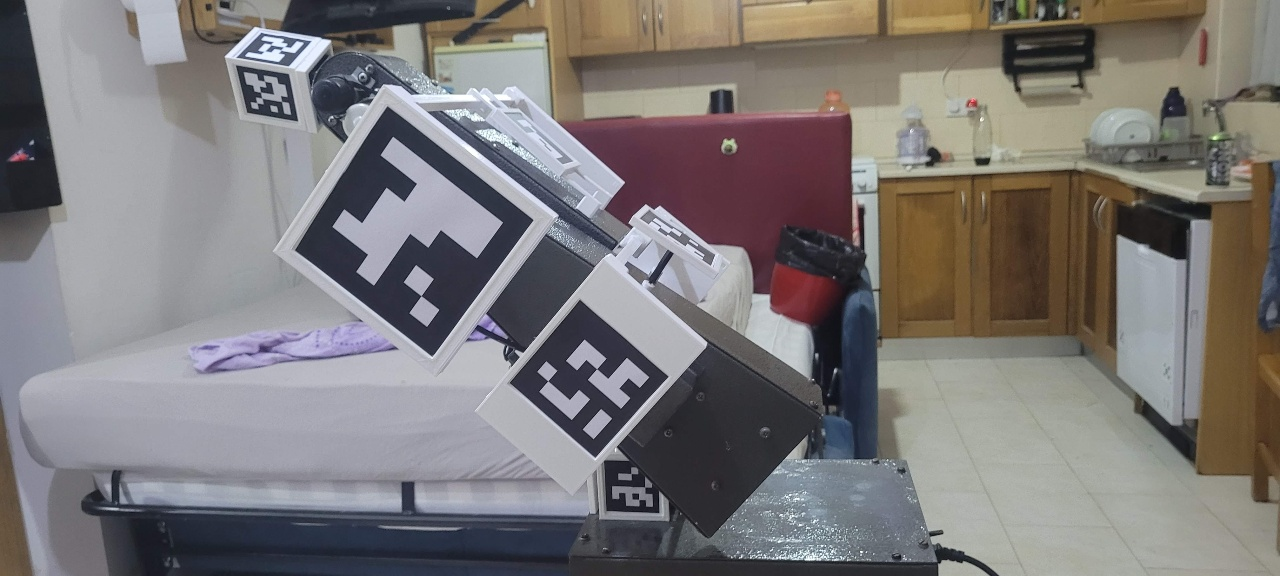Robot: (253, 30, 898, 576)
